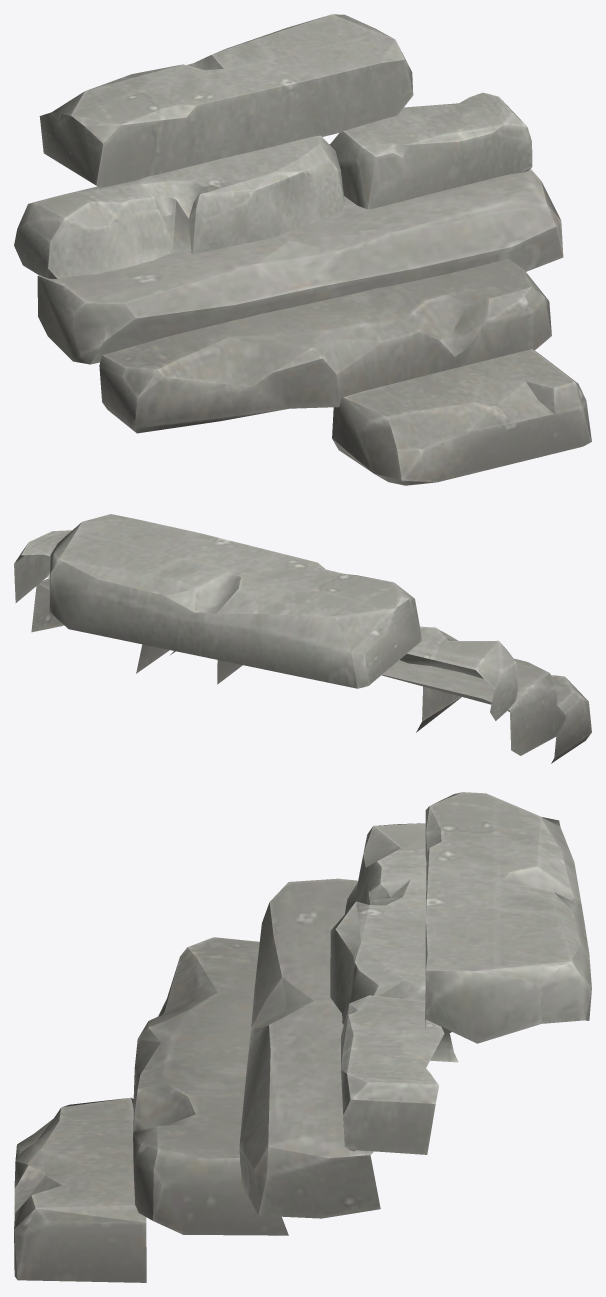
Rendered from ramp_wall_cntr_000a.fbx.
The picture shows the model from 3 angles, top to bottom: view 1: azimuth 30°, elevation 25°; view 2: azimuth 150°, elevation 25°; view 3: azimuth 270°, elevation 25°; orthographic projection. The views are drawn at different scales.
Parts seen in each view (by area): view 1: ramp_wall_cntr_000a; view 2: ramp_wall_cntr_000a; view 3: ramp_wall_cntr_000a.
Part boxes in pixels (box(x1,y1,x2,y2)): ramp_wall_cntr_000a: box(14, 14, 591, 485); ramp_wall_cntr_000a: box(14, 514, 591, 763); ramp_wall_cntr_000a: box(14, 792, 591, 1282).
Bounding box in the file's own units: 26873 × 13919 × 23562.
